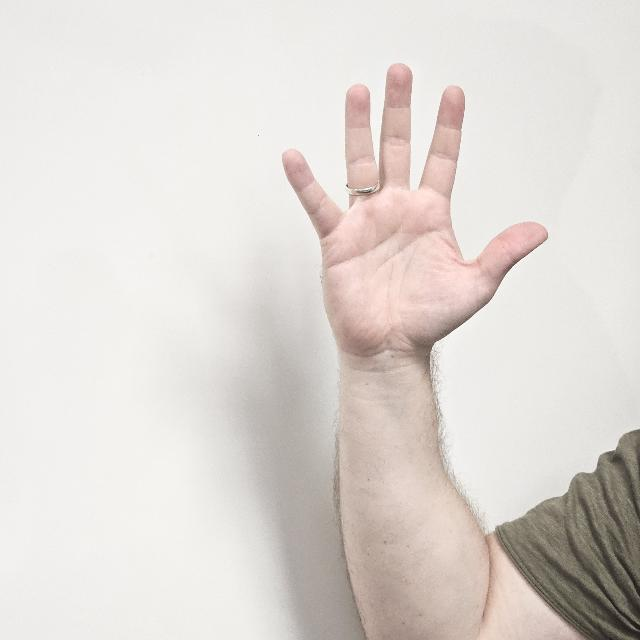X: (278, 65, 548, 382)
